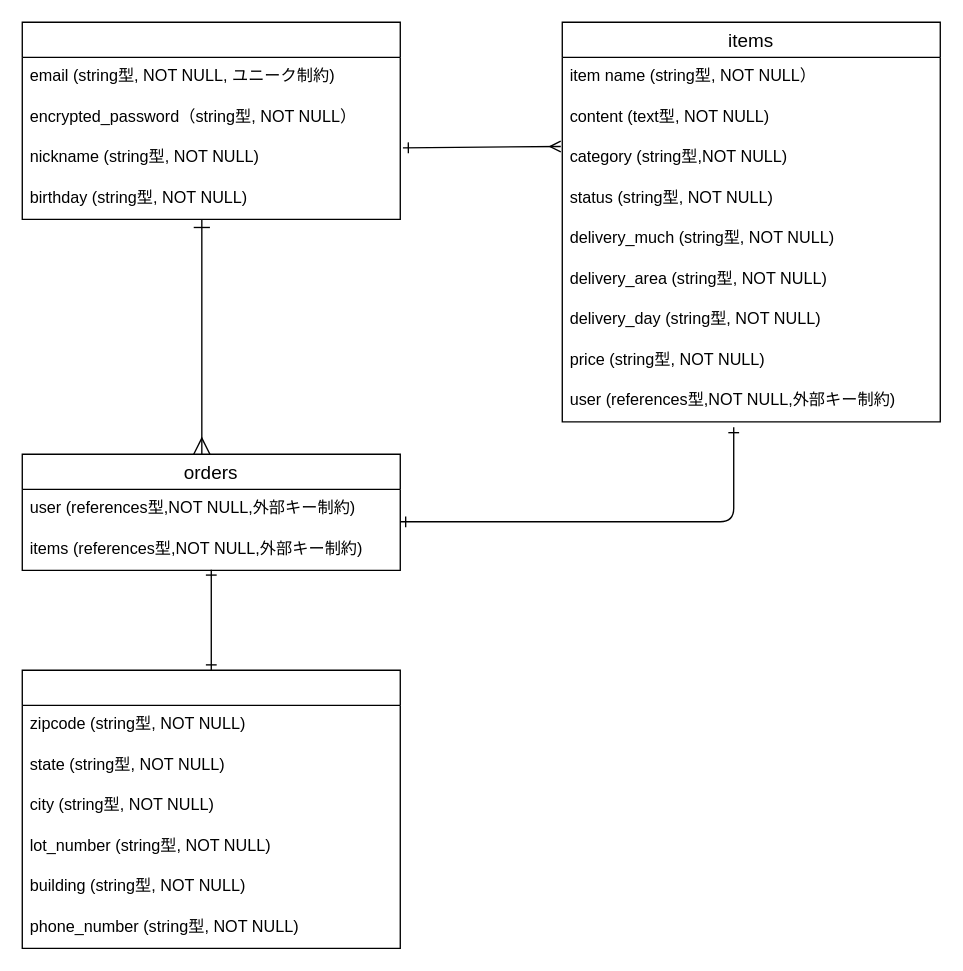
Image size: 963x971. Some labels were removed from this diagram. Here are the shapes that lost their labels. From the top down, the box of each, then its label:
(21, 21, 400, 219): users
(21, 669, 400, 948): shoppers
